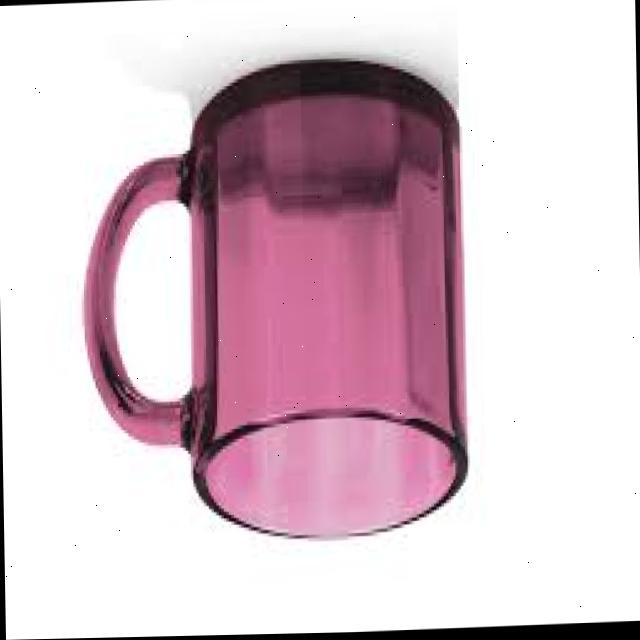Dry: (74, 51, 474, 555)
